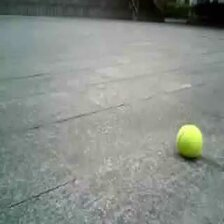tennis: (177, 126, 202, 157)
